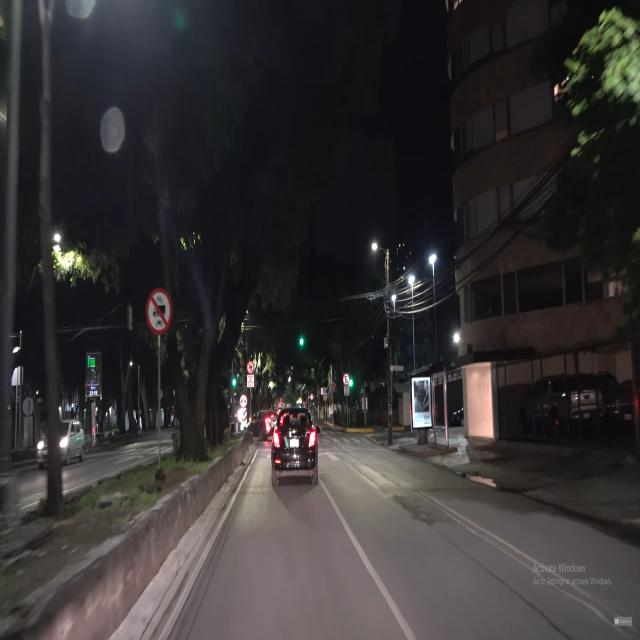headlights: (34, 431, 73, 458)
